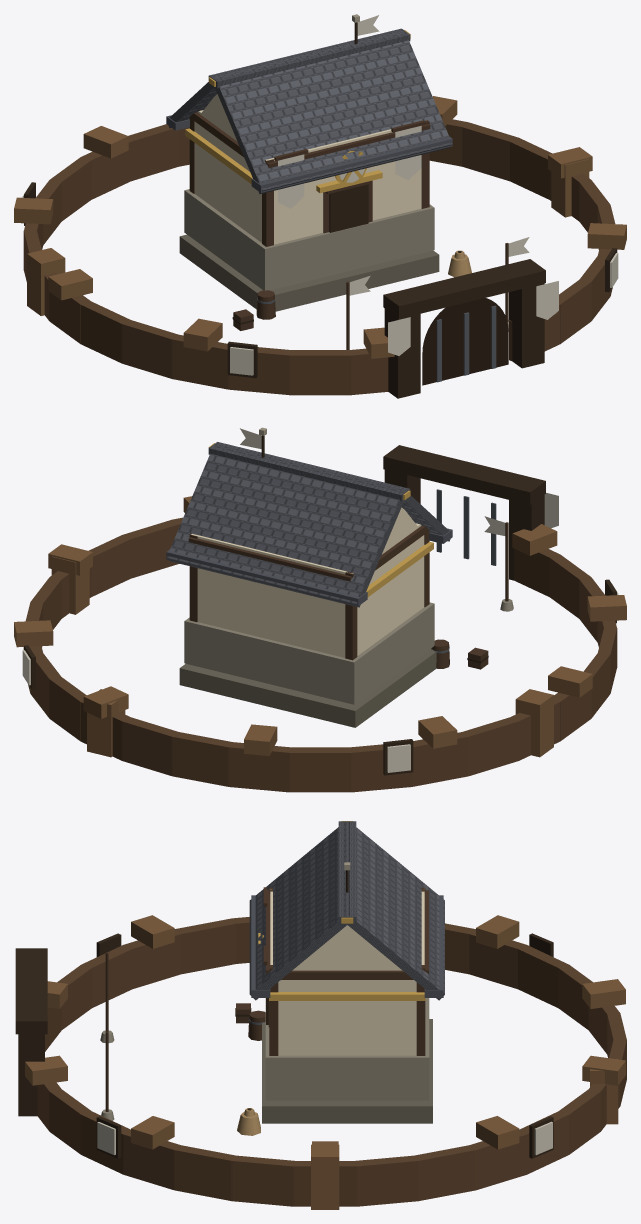
Rendered from town-elite-L1.glb.
3 views of the same model, one above another, from view 1: azimuth 30°, elevation 25°; view 2: azimuth 150°, elevation 25°; view 3: azimuth 270°, elevation 25° (orthographic).
Visible parts, largest first — view 1: building-elite-L1, object 8, object 9, object 10, object 12, object 11, object 2, object 13, object 7; view 2: building-elite-L1, object 8, object 9, object 10, object 11, object 2, object 13; view 3: building-elite-L1, object 8, object 9, object 10, object 2, object 11.
Boxes of the visible parts, bbox=[...] form: building-elite-L1: bbox=[166, 14, 452, 311]; object 8: bbox=[23, 119, 617, 395]; object 9: bbox=[14, 96, 626, 358]; object 10: bbox=[24, 182, 616, 398]; object 12: bbox=[422, 298, 508, 385]; object 11: bbox=[22, 186, 618, 375]; object 2: bbox=[233, 243, 508, 349]; object 13: bbox=[436, 305, 496, 382]; object 7: bbox=[349, 237, 529, 295]; building-elite-L1: bbox=[166, 427, 452, 727]; object 8: bbox=[23, 517, 617, 792]; object 9: bbox=[14, 496, 626, 757]; object 10: bbox=[24, 445, 616, 775]; object 11: bbox=[22, 493, 618, 772]; object 2: bbox=[431, 522, 508, 669]; object 13: bbox=[436, 489, 496, 565]; building-elite-L1: bbox=[249, 821, 444, 1123]; object 8: bbox=[37, 917, 626, 1206]; object 9: bbox=[25, 915, 625, 1209]; object 10: bbox=[15, 933, 553, 1158]; object 2: bbox=[105, 952, 265, 1111]; object 11: bbox=[97, 1121, 552, 1155].
Size of the model in its own units: 7.02 by 2.97 by 6.89.
Materials: 15 (1 with a texture image).
